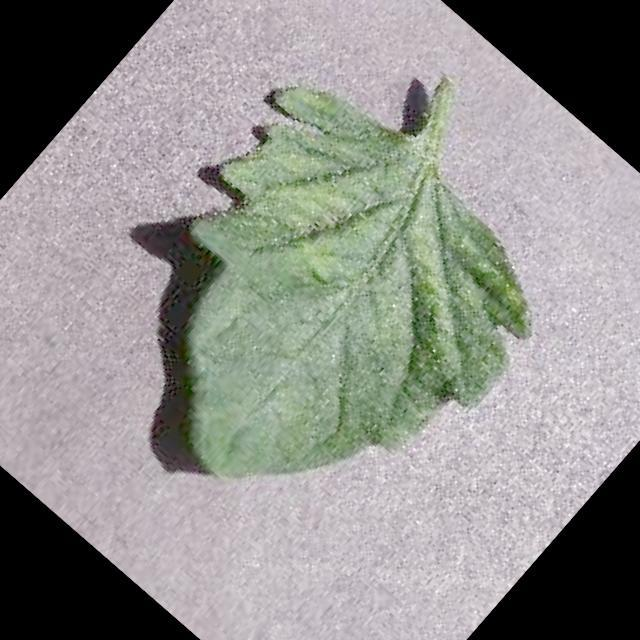Tomato mosaic virus leaf: (54, 50, 580, 578)
